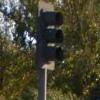Traffic light: (27, 7, 72, 75)
